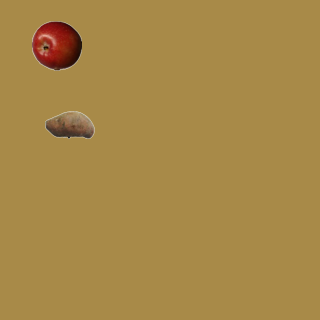Apple Braeburn: (31, 20, 81, 70)
Potato Sweet: (44, 99, 94, 149)
